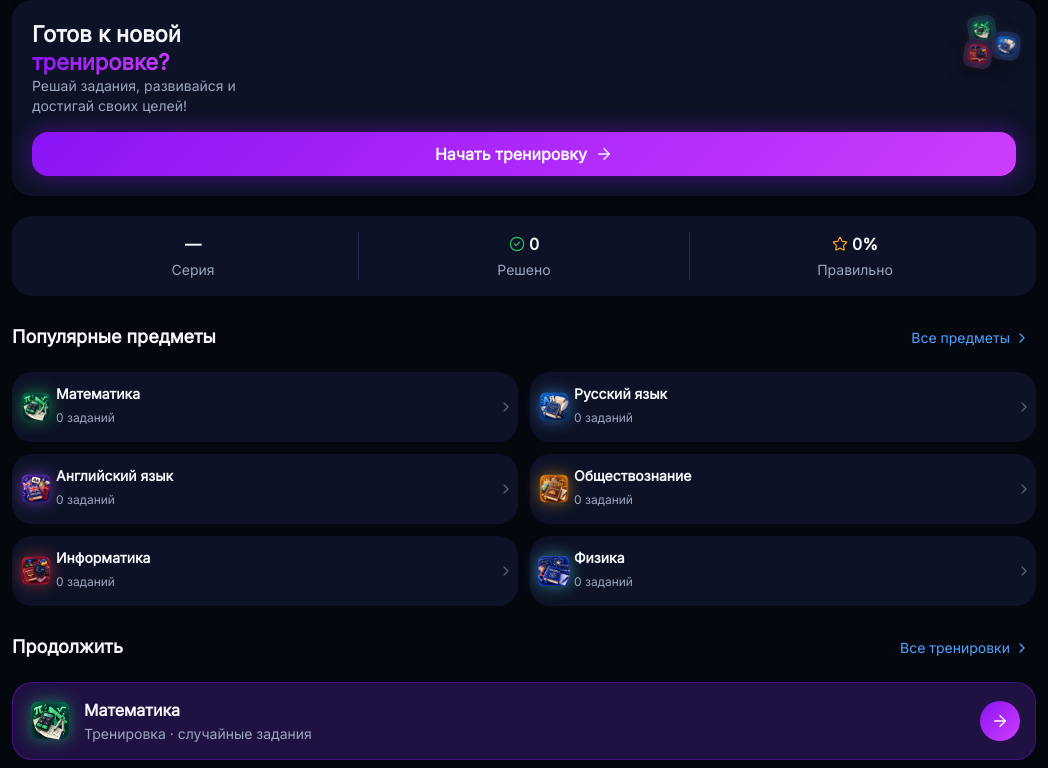
Scenario: HomeMobile › navigates to the continue-training task
Step 1. Click the button "Математика Тренировка · случайные задания" → (50, 721), box x1=12 y1=682 x2=1036 y2=760
(page scrolled)
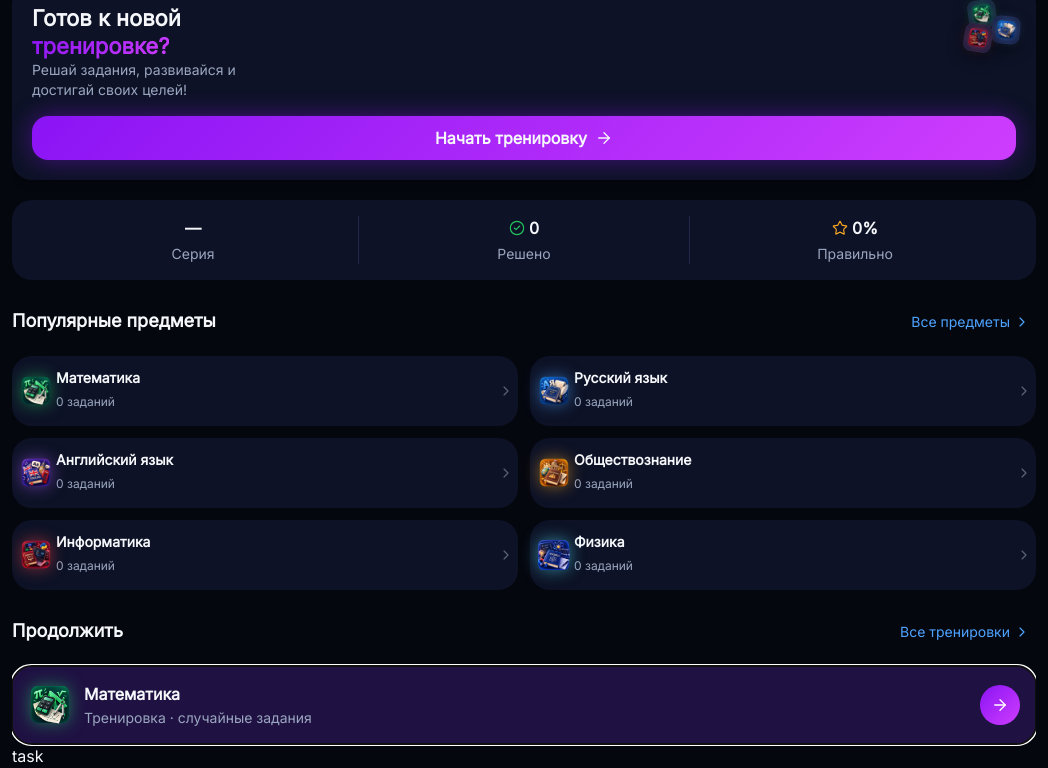
Expected: the text with test id "overlay" reads "task", x1=12 y1=746 x2=44 y2=766
